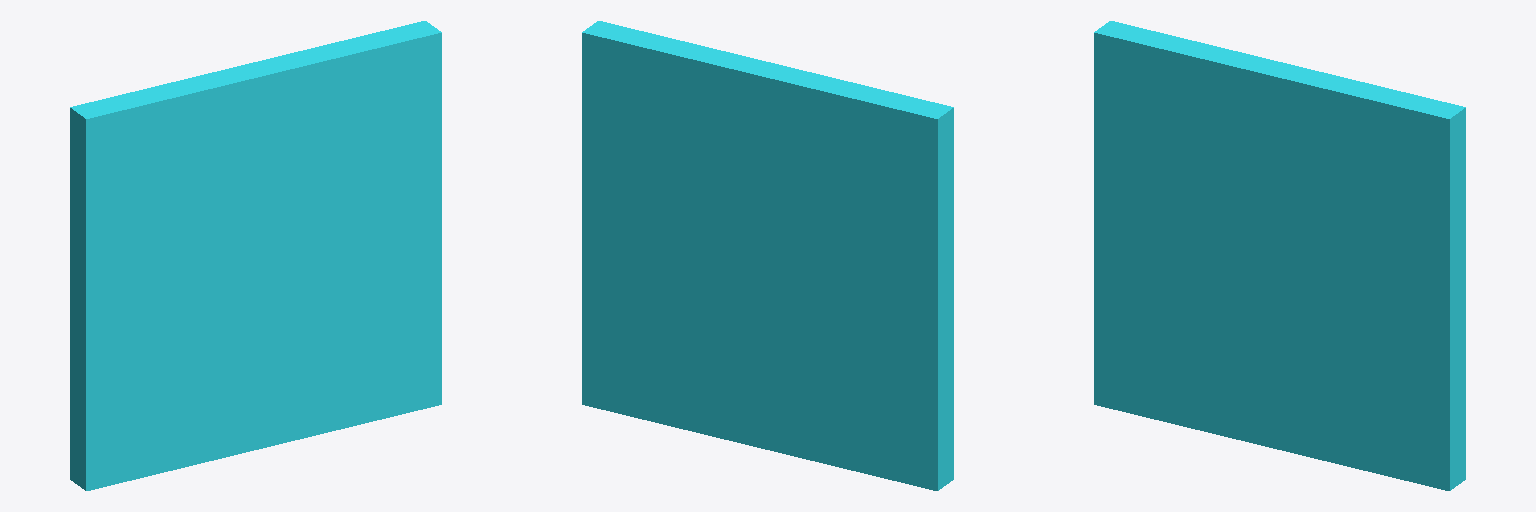
robot.urdf — ObstacleReg:
<?xml version="1.0" encoding="utf-8"?>
<!-- This URDF was automatically created by SolidWorks to URDF Exporter! Originally created by [author] ([email redacted]) 
     Commit Version: 1.6.0-4-g7f85cfe  Build Version: 1.6.7995.38578
     For more information, please see http://wiki.ros.org/sw_urdf_exporter -->
<robot
  name="ObstacleReg">
  <link
    name="base_link">
    <inertial>
      <origin
        xyz="4.0911E-17 -0.04 -1.3019E-17"
        rpy="0 0 0" />
      <mass
        value="80" />
      <inertia
        ixx="6.7093"
        ixy="2.8912E-17"
        ixz="-7.4015E-16"
        iyy="13.333"
        iyz="-3.5961E-16"
        izz="6.7093" />
    </inertial>
    <visual>
      <origin
        xyz="0 0 0"
        rpy="0 0 0" />
      <geometry>
        <mesh
          filename="package://ObstacleReg/meshes/base_link.STL" />
      </geometry>
      <material
        name="">
        <color
          rgba="0.27059 0.94118 1 1" />
      </material>
    </visual>
    <collision>
      <origin
        xyz="0 0 0"
        rpy="0 0 0" />
      <geometry>
        <mesh
          filename="package://ObstacleReg/meshes/base_link.STL" />
      </geometry>
    </collision>
  </link>
</robot>

--- Render facts (derived) ---
The picture shows the robot from 3 angles, left to right: view 1: azimuth 30°, elevation 25°; view 2: azimuth 150°, elevation 25°; view 3: azimuth 330°, elevation 25°; orthographic projection.
Robot: ObstacleReg — 1 links, 0 joints (none); root link base_link; default pose: every joint at zero.
Links seen in each view (by area): view 1: base_link; view 2: base_link; view 3: base_link.
Link boxes in pixels (left/top/right/bottom): base_link: left=70, top=21, right=441, bottom=490; base_link: left=582, top=21, right=953, bottom=490; base_link: left=1094, top=21, right=1465, bottom=490.
Size in the robot's own frame: 1 by 0.08 by 1 metres.
1 mesh visuals loaded from 1 distinct referenced files (1 binary STL).